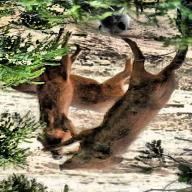boar: (29, 38, 110, 173)
